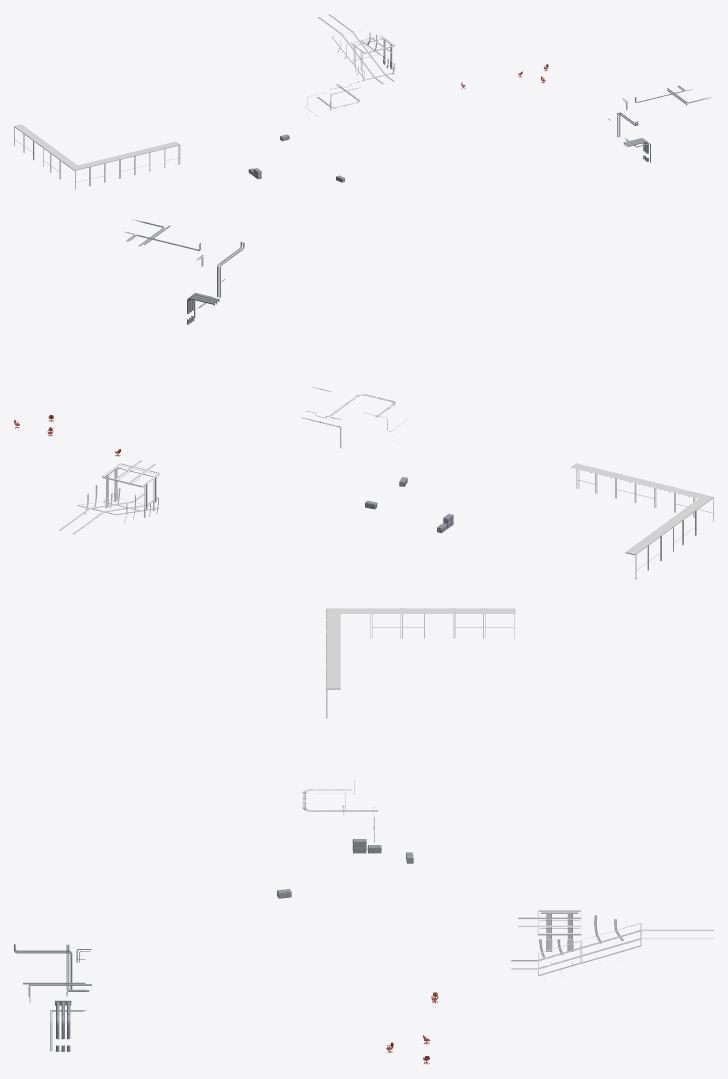
The picture shows the model from 3 angles, top to bottom: view 1: azimuth 30°, elevation 25°; view 2: azimuth 150°, elevation 25°; view 3: azimuth 270°, elevation 25°; orthographic projection. The views are drawn at different scales.
Visible parts, largest first — view 1: n0_lr0_agg_merge_nuke_skylight_color_0_fragment1, n0_lr0_agg_merge_nuke_industrial_props_001_0_fragment1_c0_-1, n0_lr0_agg_merge_metal_pipe_001_0_fragment5_c1_2, n0_lr0_agg_merge_wires_001_1_fragment1_c-1_0; view 2: n0_lr0_agg_merge_nuke_skylight_color_0_fragment1, n0_lr0_agg_merge_nuke_industrial_props_001_0_fragment1_c0_-1, n0_lr0_agg_merge_metal_pipe_001_0_fragment5_c1_2; view 3: n0_lr0_agg_merge_nuke_industrial_props_001_0_fragment1_c0_-1, n0_lr0_agg_merge_nuke_skylight_color_0_fragment1, n0_lr0_agg_merge_metal_pipe_001_0_fragment5_c1_2.
Part boxes in pixels (x1,y1,x2,y2): n0_lr0_agg_merge_nuke_skylight_color_0_fragment1: [14, 124, 180, 189]; n0_lr0_agg_merge_nuke_industrial_props_001_0_fragment1_c0_-1: [317, 14, 395, 84]; n0_lr0_agg_merge_metal_pipe_001_0_fragment5_c1_2: [608, 85, 711, 162]; n0_lr0_agg_merge_wires_001_1_fragment1_c-1_0: [305, 78, 372, 118]; n0_lr0_agg_merge_nuke_skylight_color_0_fragment1: [571, 463, 713, 579]; n0_lr0_agg_merge_nuke_industrial_props_001_0_fragment1_c0_-1: [59, 460, 160, 534]; n0_lr0_agg_merge_metal_pipe_001_0_fragment5_c1_2: [124, 218, 244, 324]; n0_lr0_agg_merge_nuke_industrial_props_001_0_fragment1_c0_-1: [511, 910, 713, 976]; n0_lr0_agg_merge_nuke_skylight_color_0_fragment1: [326, 608, 515, 718]; n0_lr0_agg_merge_metal_pipe_001_0_fragment5_c1_2: [14, 944, 91, 1051].
Bounding box in the file's own units: 4697 × 657 × 3359.
